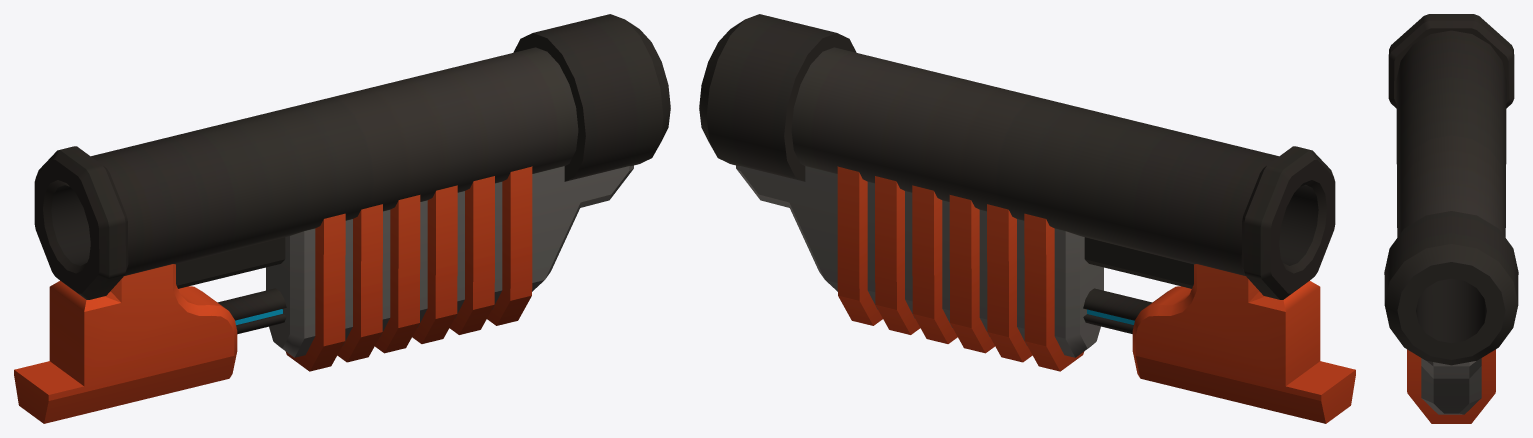
The model's file is GL1_Barrel.fbx.
The picture shows the model from 3 angles, left to right: view 1: azimuth 30°, elevation 25°; view 2: azimuth 150°, elevation 25°; view 3: azimuth 270°, elevation 25°; orthographic projection. The views are drawn at different scales.
Parts seen in each view (by area): view 1: GL1_Barrel; view 2: GL1_Barrel; view 3: GL1_Barrel.
Boxes of the visible parts, x1=… form: GL1_Barrel: x1=14, y1=14, x2=670, y2=423; GL1_Barrel: x1=699, y1=14, x2=1355, y2=423; GL1_Barrel: x1=1384, y1=14, x2=1518, y2=423.
Bounding box in the file's own units: 38.39 × 15.93 × 8.39.
